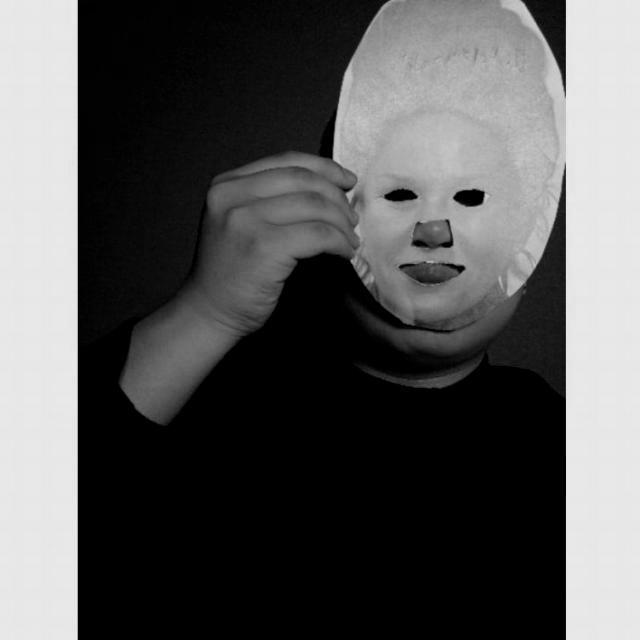fake: (331, 0, 565, 330)
